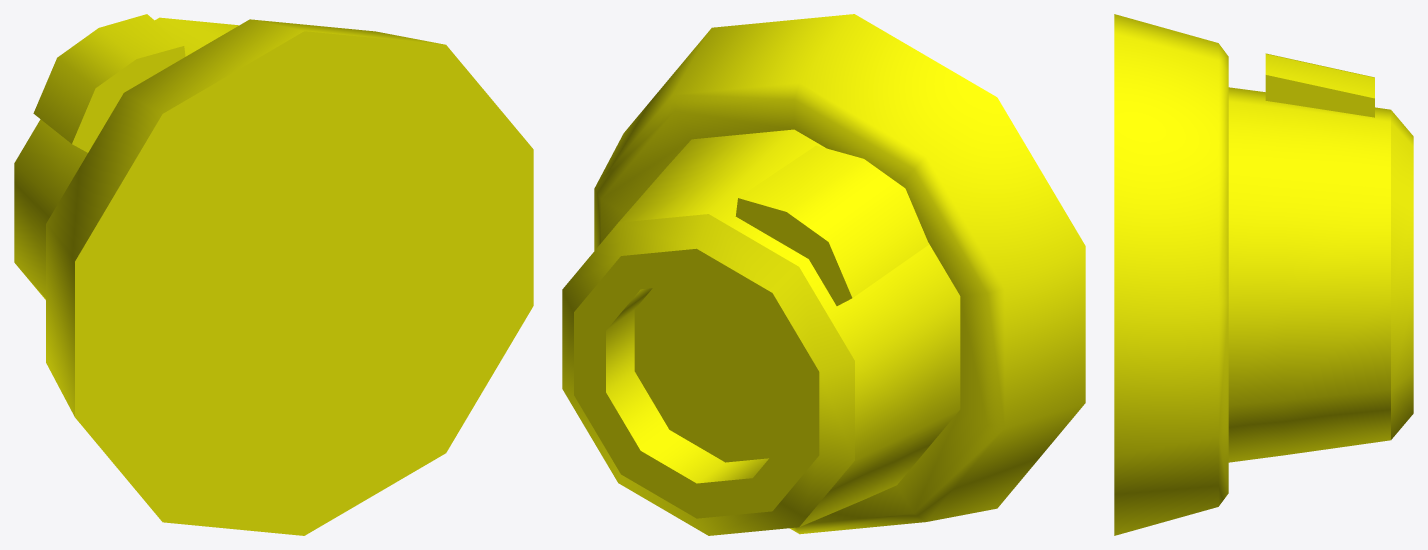
3 views of the same model, side by side, from view 1: azimuth 30°, elevation 25°; view 2: azimuth 150°, elevation 25°; view 3: azimuth 270°, elevation 25° (orthographic). The views are drawn at different scales.
Parts seen in each view (by area): view 1: automatic_gun; view 2: automatic_gun; view 3: automatic_gun.
Part boxes in pixels (<box>): automatic_gun: <box>14,14,533,535</box>; automatic_gun: <box>562,14,1085,535</box>; automatic_gun: <box>1114,14,1413,535</box>.
Bounding box in the file's own units: 0.0091 × 0.00957 × 0.00539.
1 material, 1 textured.
